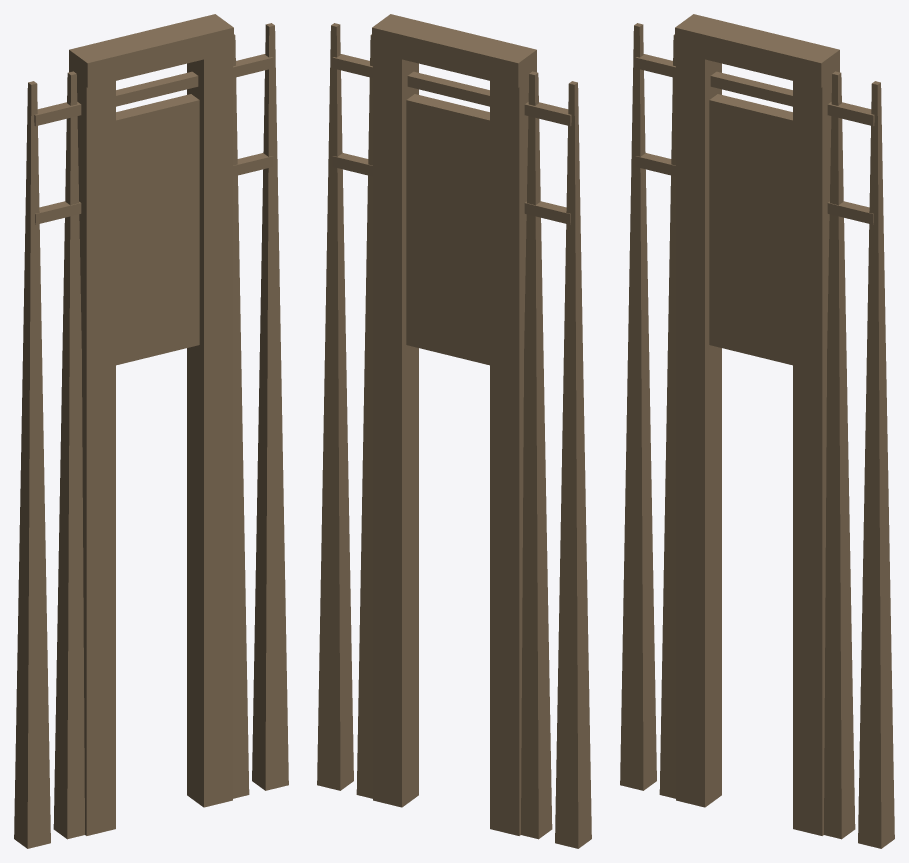
Rendered from gate.glb.
3 renders of one model, left to right at view 1: azimuth 30°, elevation 25°; view 2: azimuth 150°, elevation 25°; view 3: azimuth 330°, elevation 25°, orthographic.
Parts seen in each view (by area): view 1: gate; view 2: gate; view 3: gate.
Part boxes in pixels (x1,y1,x2,y2): gate: [14, 14, 288, 848]; gate: [317, 14, 591, 848]; gate: [620, 14, 894, 848].
Size of the model in its own units: 1.79 by 5.05 by 0.22.
